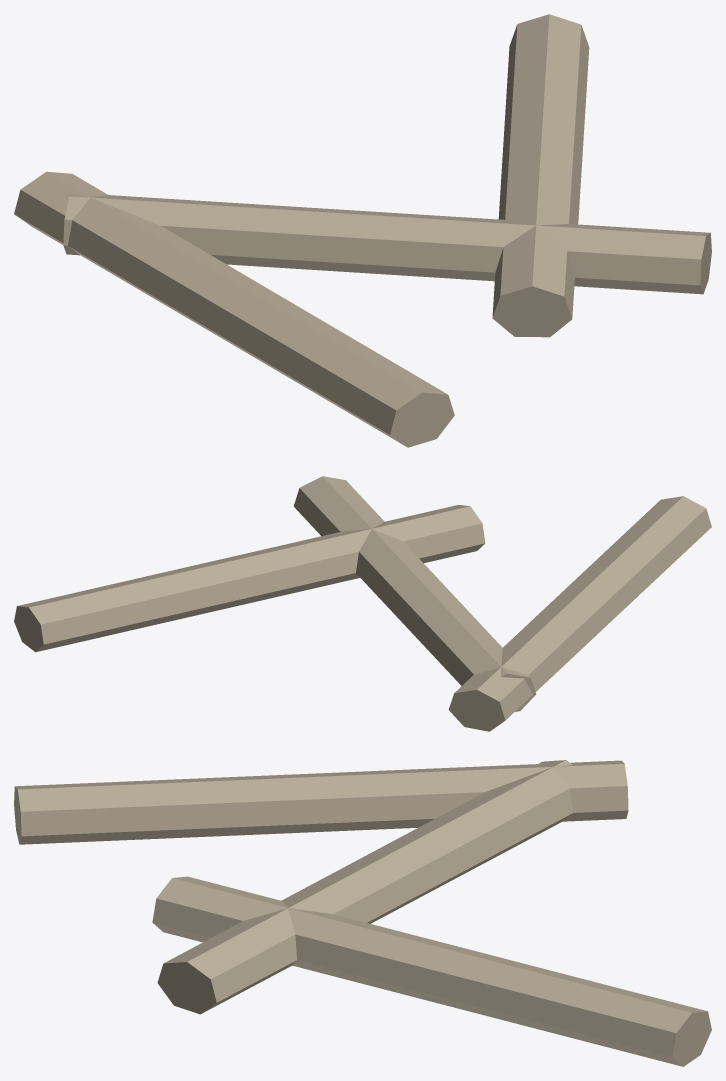
File: df_v2_bone_decor_a.glb
3 views of the same model, one above another, from view 1: azimuth 30°, elevation 25°; view 2: azimuth 150°, elevation 25°; view 3: azimuth 270°, elevation 25° (orthographic). The views are drawn at different scales.
Visible parts, largest first — view 1: bone_1, bone_0, bone_2; view 2: bone_2, bone_0, bone_1; view 3: bone_0, bone_2, bone_1.
Part boxes in pixels (x1,y1,x2,y2): bone_1: [63, 195, 711, 294]; bone_0: [14, 171, 454, 447]; bone_2: [492, 14, 589, 337]; bone_2: [14, 505, 485, 652]; bone_0: [448, 496, 711, 731]; bone_1: [293, 476, 536, 711]; bone_0: [14, 760, 628, 844]; bone_2: [152, 876, 711, 1066]; bone_1: [157, 760, 573, 1014].
Bounding box in the file's own units: 0.5942 × 0.0479 × 0.6293.
